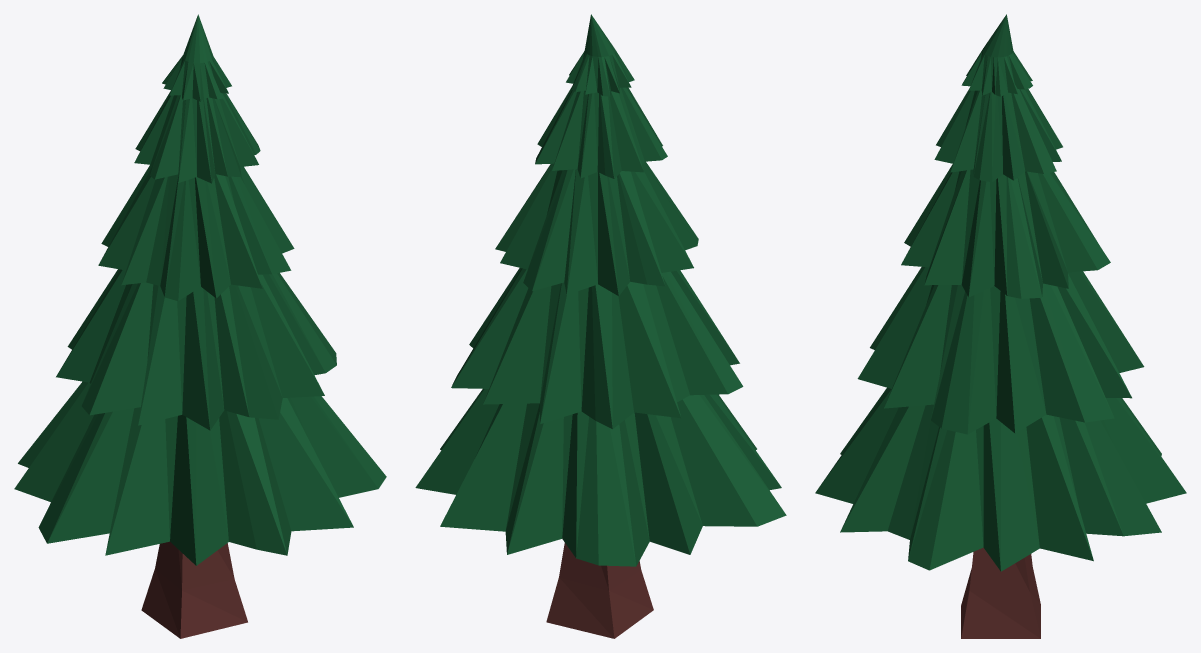
Rendered from tree1.glb.
3 views of the same model, side by side, from view 1: azimuth 30°, elevation 25°; view 2: azimuth 150°, elevation 25°; view 3: azimuth 270°, elevation 25° (orthographic). The views are drawn at different scales.
Visible parts, largest first — view 1: Cube.009; view 2: Cube.009; view 3: Cube.009.
Part boxes in pixels (x1=…): Cube.009: x1=14, y1=14, x2=386, y2=638; Cube.009: x1=415, y1=14, x2=786, y2=638; Cube.009: x1=815, y1=14, x2=1186, y2=638.
Size of the model in its own units: 2.67 by 4.69 by 2.59.
